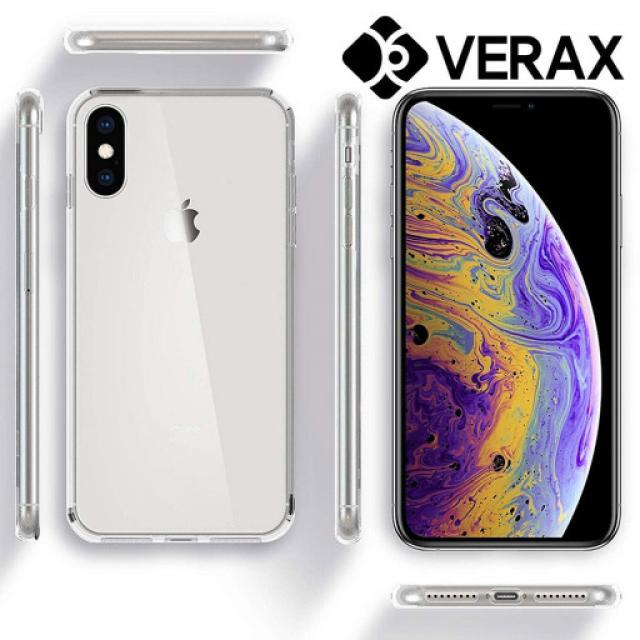phone: (65, 89, 296, 541)
